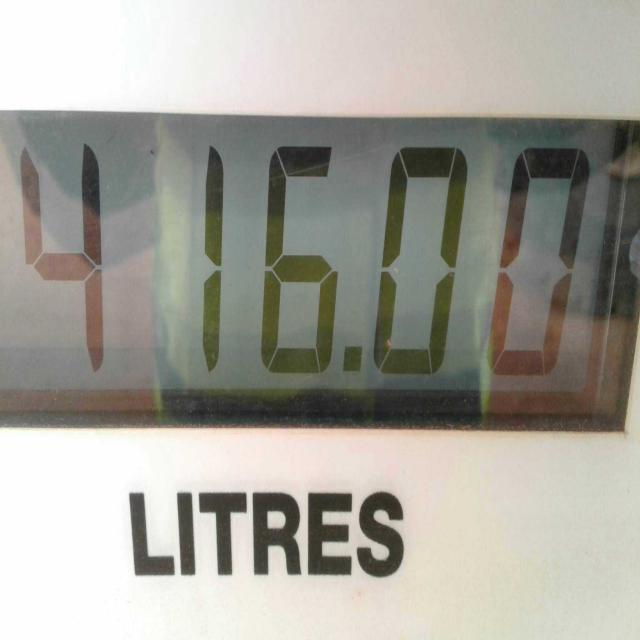.: (338, 338, 368, 401)
0: (488, 148, 588, 386), (381, 150, 466, 379)
1: (200, 150, 223, 370)
4: (21, 142, 108, 369)
6: (258, 150, 338, 367)
